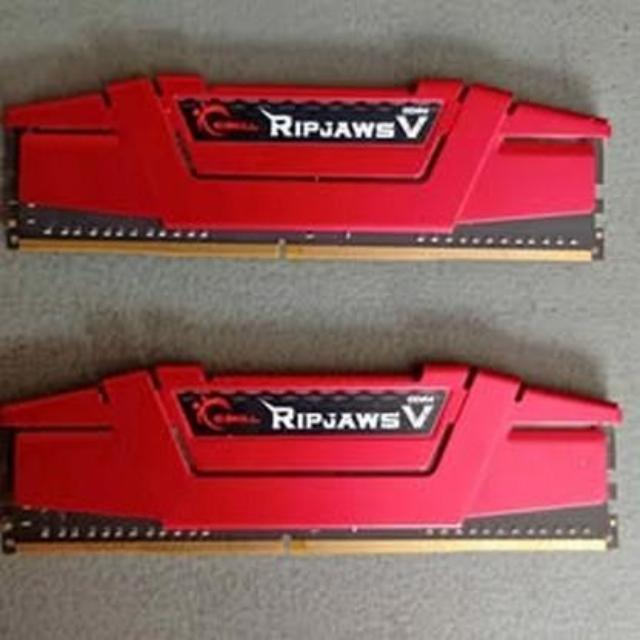RAM: (0, 13, 640, 299), (0, 356, 637, 567)
